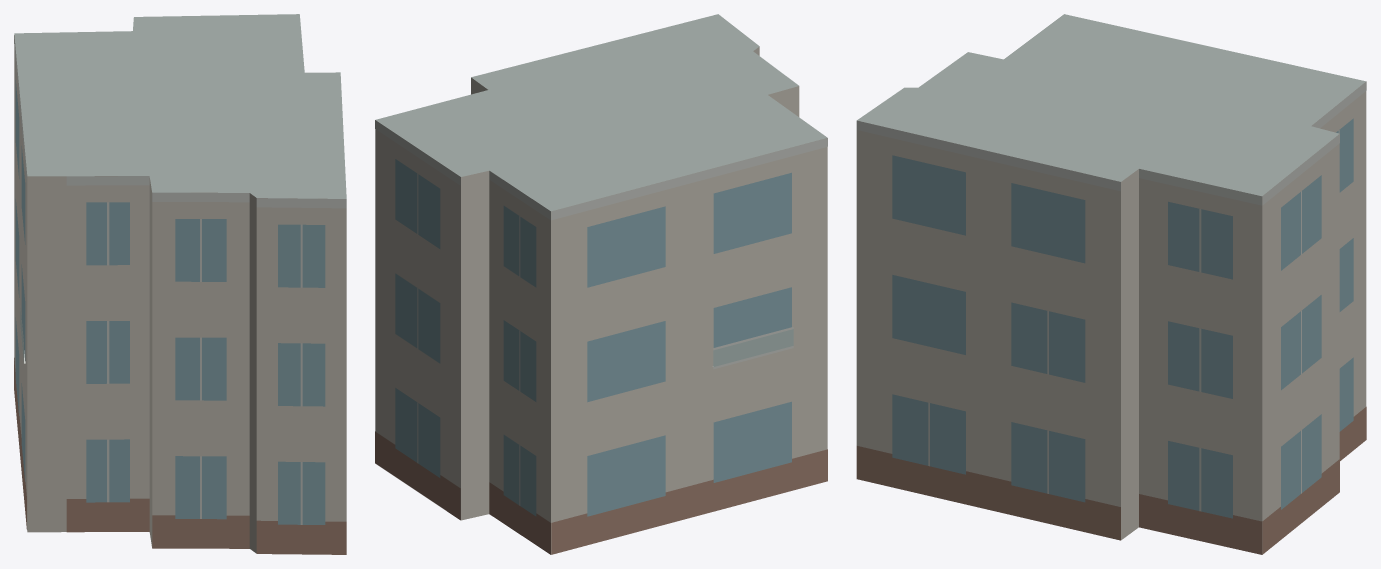
Rendered from survey-upis-33034254.glb.
3 views of the same model, side by side, from view 1: azimuth 30°, elevation 25°; view 2: azimuth 150°, elevation 25°; view 3: azimuth 270°, elevation 25° (orthographic). The views are drawn at different scales.
Parts seen in each view (by area): view 1: survey-upis-33034254.tmp; view 2: survey-upis-33034254.tmp; view 3: survey-upis-33034254.tmp.
Part boxes in pixels (x1,y1,x2,y2): survey-upis-33034254.tmp: [14, 14, 346, 554]; survey-upis-33034254.tmp: [375, 14, 827, 554]; survey-upis-33034254.tmp: [856, 14, 1366, 554].
Size of the model in its own units: 10.15 by 9.3 by 11.99.
